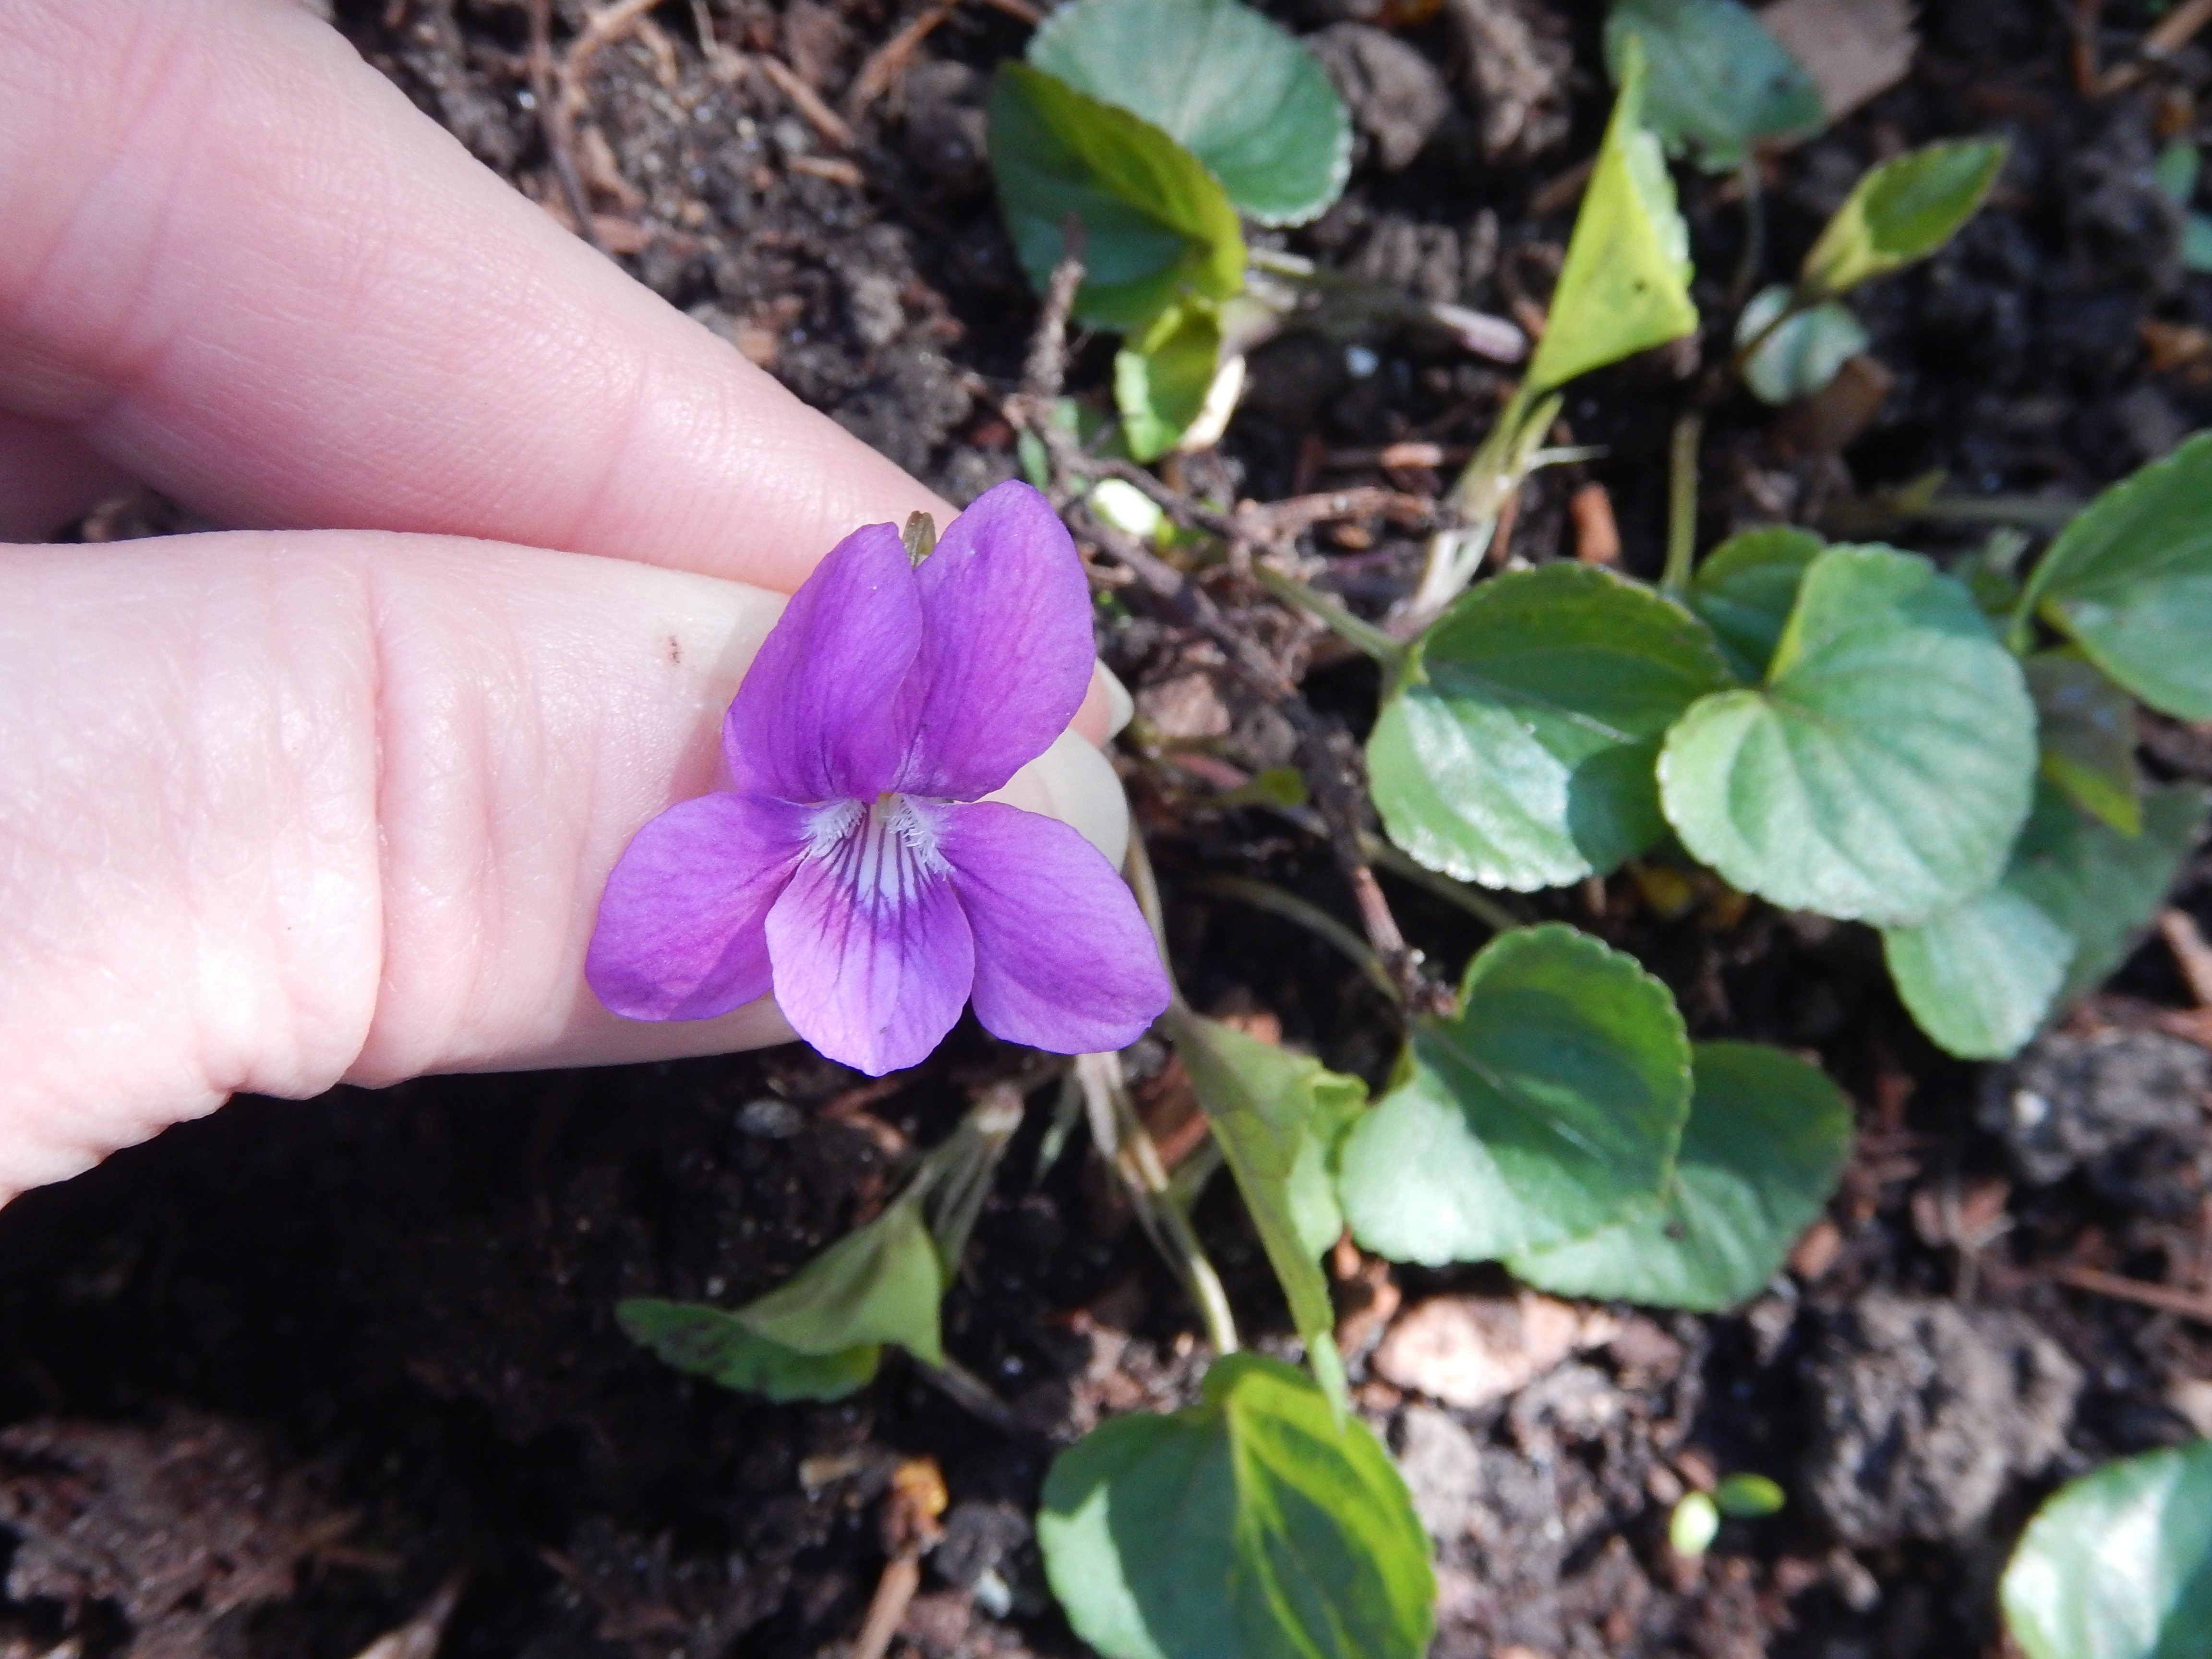violet: (597, 507, 1212, 1075)
